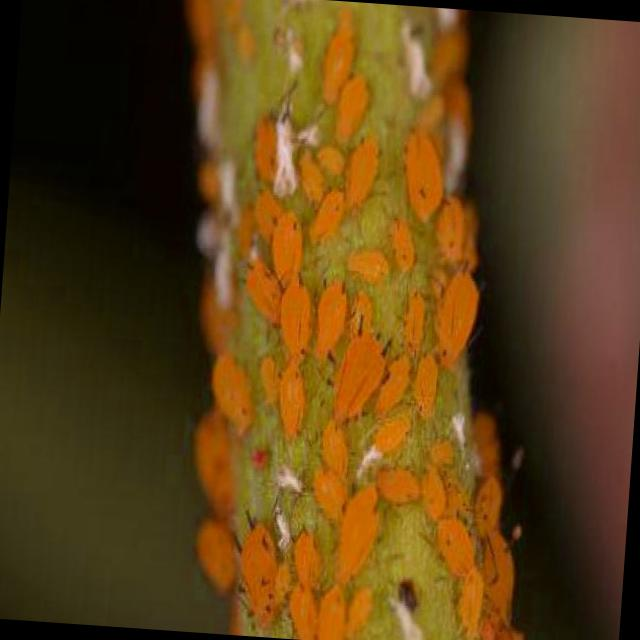aphid: (322, 312, 397, 438), (328, 473, 390, 591), (423, 261, 484, 375), (256, 264, 321, 369), (230, 510, 286, 626), (395, 120, 452, 232), (198, 343, 261, 440), (338, 115, 397, 214), (307, 272, 357, 366), (368, 342, 418, 428), (272, 351, 315, 446), (427, 510, 479, 581), (446, 561, 491, 640), (408, 342, 444, 433), (381, 206, 424, 278), (336, 240, 396, 288)
